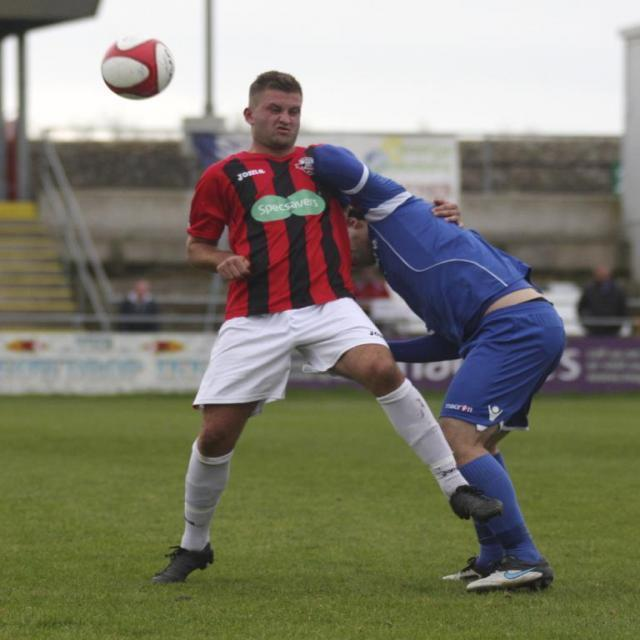football: (84, 25, 189, 103)
